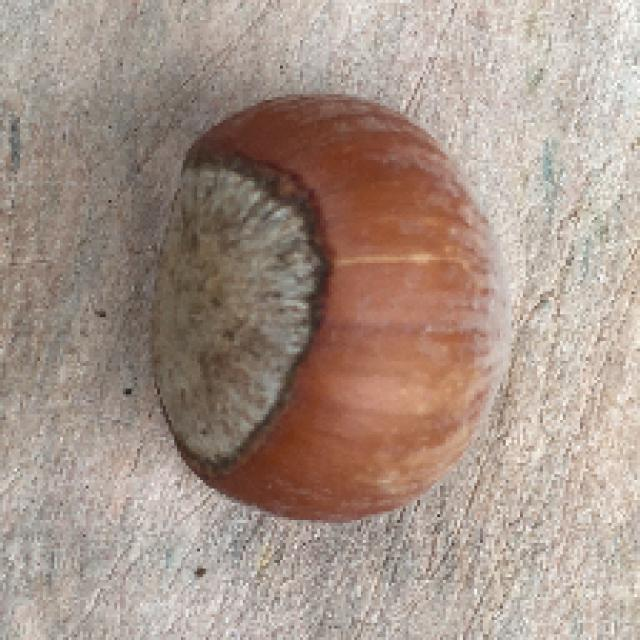qualityHazelnut: (153, 89, 507, 523)
